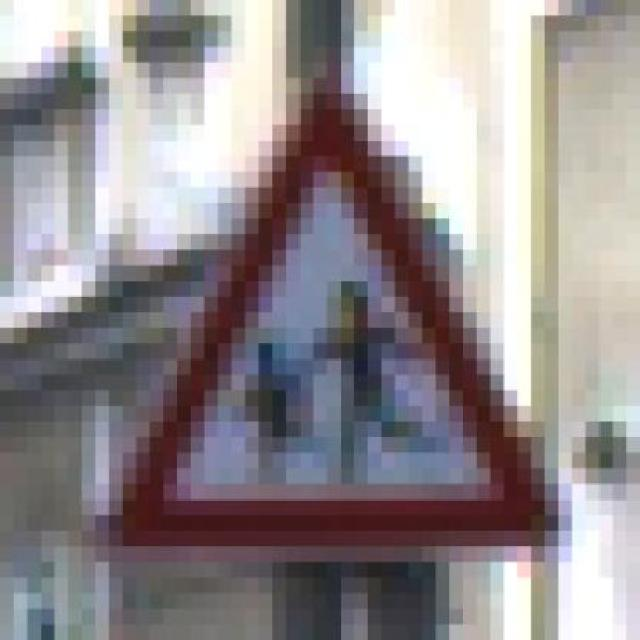Beware of children: (82, 78, 586, 562)
